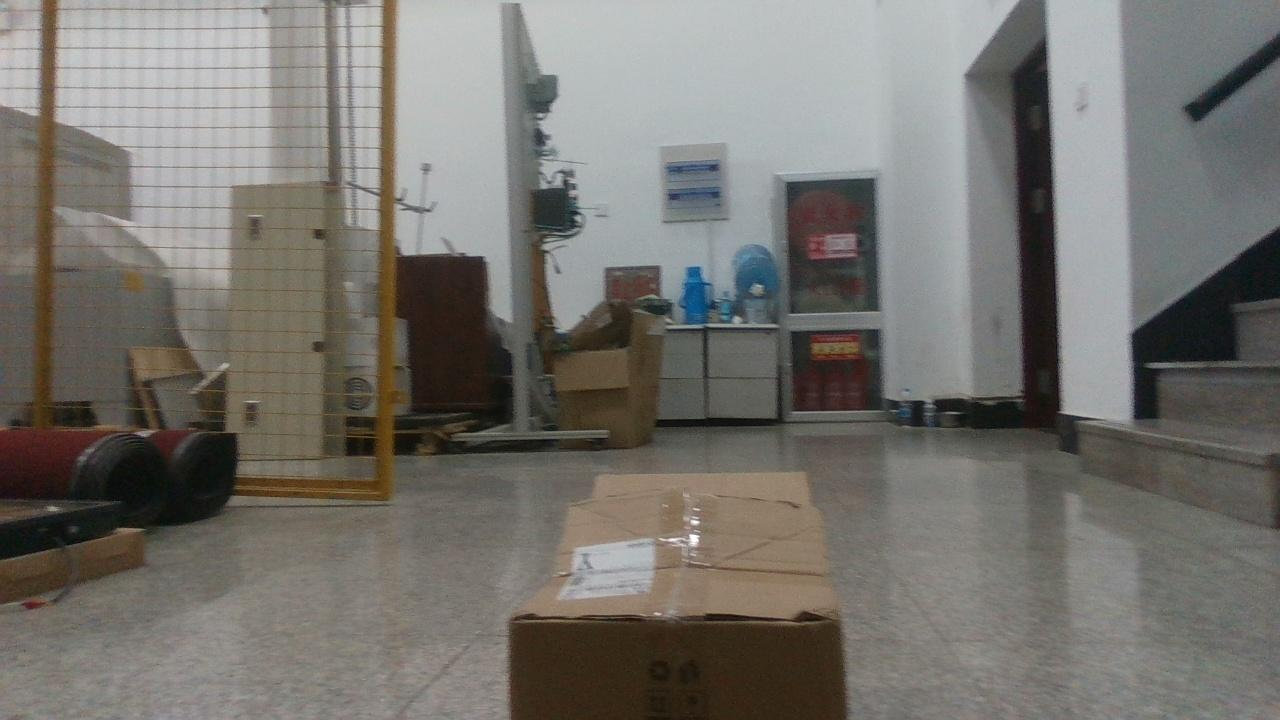box: (510, 472, 848, 719)
